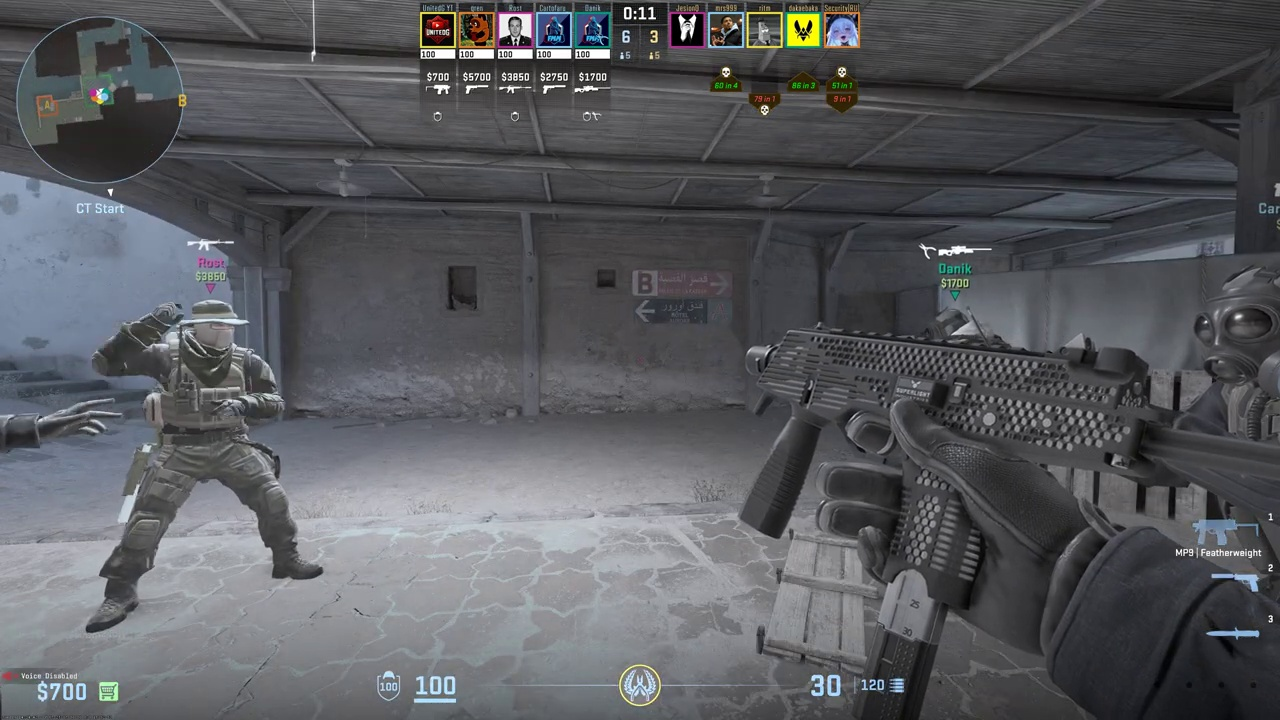CT: (91, 298, 314, 624), (1181, 262, 1280, 574), (919, 309, 980, 435)
